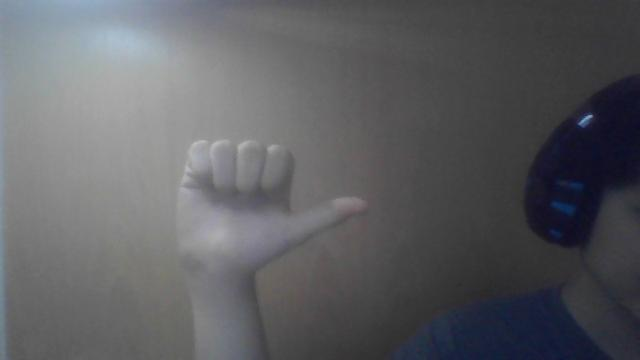left: (165, 134, 369, 278)
